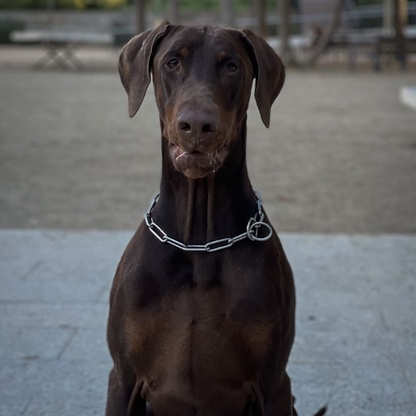doberman: (89, 20, 312, 410)
